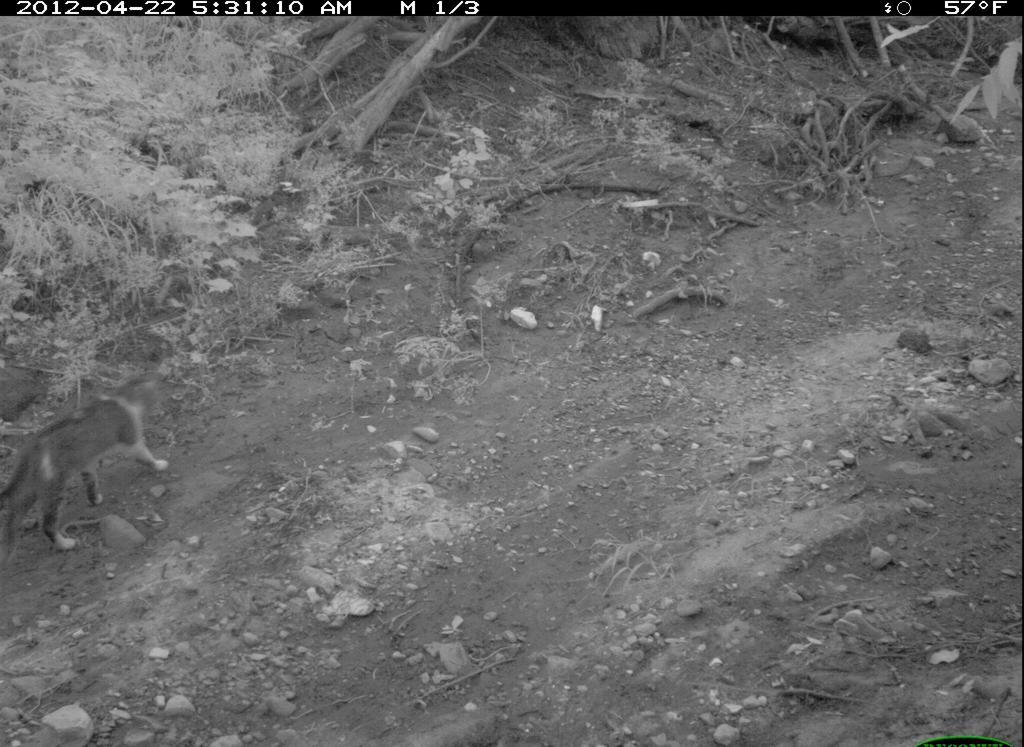cat: (1, 359, 181, 571)
